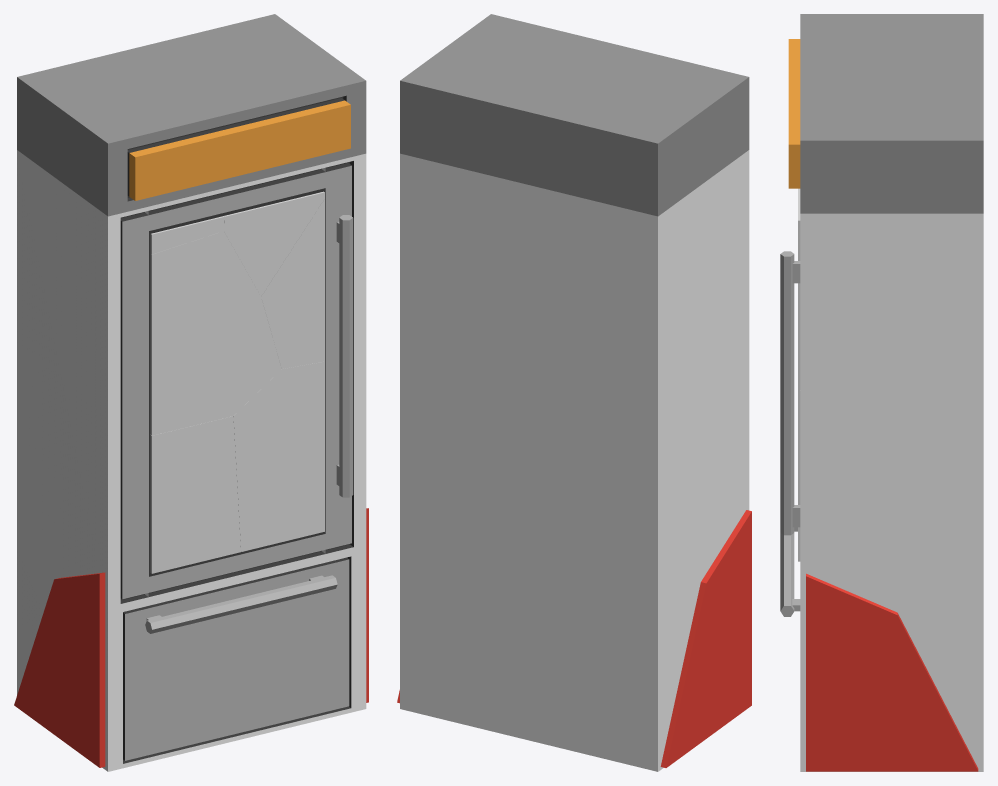
Rendered from freezer.fbx.
The picture shows the model from 3 angles, left to right: view 1: azimuth 30°, elevation 25°; view 2: azimuth 150°, elevation 25°; view 3: azimuth 270°, elevation 25°; orthographic projection.
Parts seen in each view (by area): view 1: Cube, fracturedGlassFreezer_cell.002, fracturedGlassFreezer_cell.004, fracturedGlassFreezer_cell, fracturedGlassFreezer_cell.005, fracturedGlassFreezer_cell.003, fracturedGlassFreezer_cell.001; view 2: Cube; view 3: Cube, fracturedGlassFreezer_cell.004, fracturedGlassFreezer_cell.005.
Part boxes in pixels (<box>): Cube: <box>14,14,368,771</box>; fracturedGlassFreezer_cell.002: <box>150,231,281,435</box>; fracturedGlassFreezer_cell.004: <box>233,361,324,551</box>; fracturedGlassFreezer_cell: <box>150,416,240,573</box>; fracturedGlassFreezer_cell.005: <box>261,199,324,368</box>; fracturedGlassFreezer_cell.003: <box>223,191,324,296</box>; fracturedGlassFreezer_cell.001: <box>150,216,224,254</box>; Cube: <box>397,14,751,771</box>; Cube: <box>780,14,983,771</box>; fracturedGlassFreezer_cell.004: <box>798,390,800,561</box>; fracturedGlassFreezer_cell.005: <box>798,227,800,390</box>.
Size of the model in its own units: 702 by 1565 by 456.
